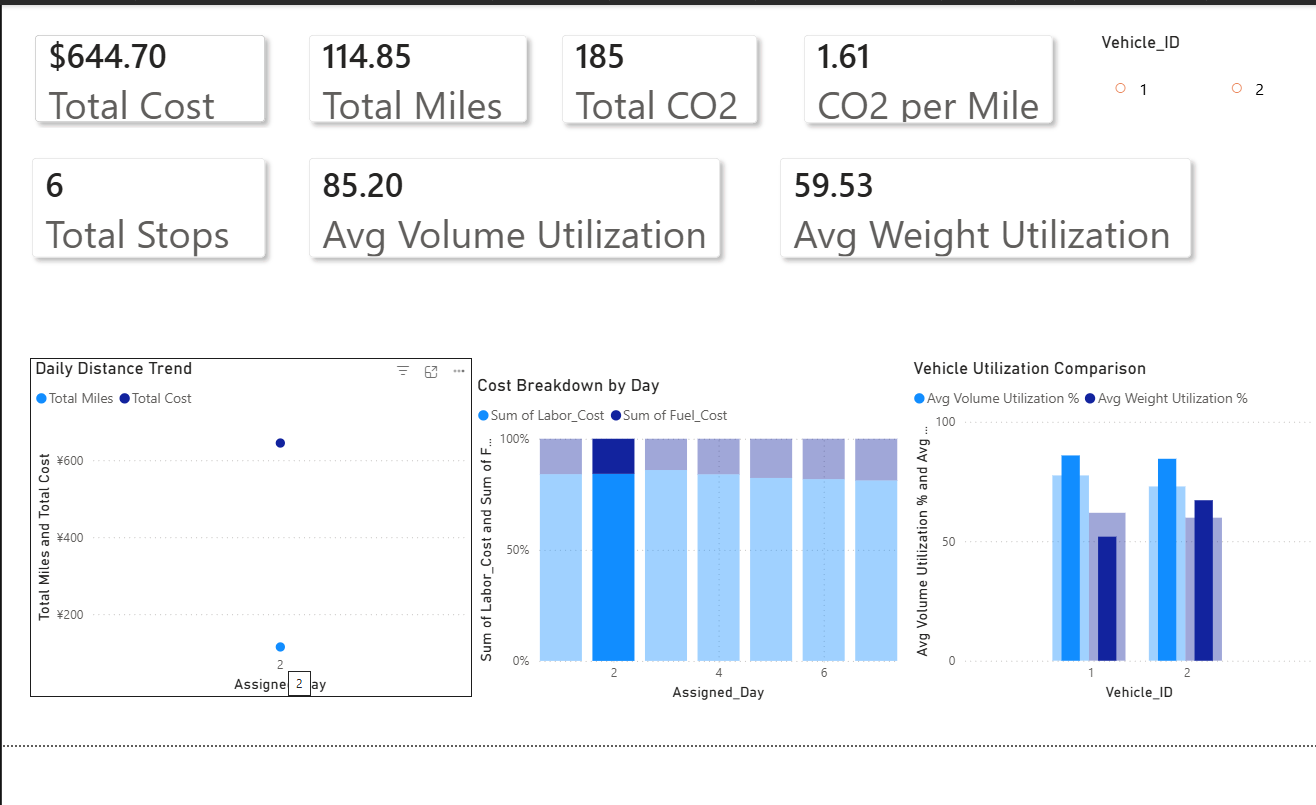

The dashboard page shown, as its layout file describes it:
{"tool":"powerbi","page":{"name":"Manager Overview","canvas":[1280,720],"ordinal":0},"visuals":[{"type":"cardVisual","fields":{"Data":["Input_Config.Avg Volume Utilization %"]},"box":[269,119.8,458.7,155.7],"z":0},{"type":"cardVisual","fields":{"Data":["Input_Config.Avg Weight Utilization %"]},"box":[727.7,119.8,458.1,155.7],"z":1},{"type":"cardVisual","fields":{"Data":["Input_Config.Total CO2"]},"box":[515.8,0,248.3,144],"z":2},{"type":"cardVisual","fields":{"Data":["Input_Config.Total Cost"]},"box":[3.3,0,282,144],"z":3},{"type":"cardVisual","fields":{"Data":["Input_Config.Total Miles"]},"box":[269,0,270.3,144],"z":4},{"type":"cardVisual","fields":{"Data":["Input_Config.Total Stops"]},"box":[0,119.8,285.3,155.7],"z":5},{"type":"lineChart","title":"Daily Distance Trend","fields":{"Category":["Final_Schedule_Model.Assigned_Day"],"Y":["Input_Config.Total Miles","Input_Config.Total Cost"]},"box":[27,343.4,430,329.9],"z":6},{"type":"advancedSlicerVisual","fields":{"Values":["Final_Schedule_Model.Vehicle_ID"]},"box":[1063.6,26.3,216.4,90.1],"z":7},{"type":"hundredPercentStackedColumnChart","title":"Cost Breakdown by Day","fields":{"Category":["Final_Schedule_Model.Assigned_Day"],"Y":["Sum(Final_Schedule_Model.Labor_Cost)","Sum(Final_Schedule_Model.Fuel_Cost)"]},"box":[456.9,359.7,418.6,321.4],"z":8},{"type":"clusteredColumnChart","title":"Vehicle Utilization Comparison","fields":{"Category":["Final_Schedule_Model.Vehicle_ID"],"Y":["Input_Config.Avg Volume Utilization %","Input_Config.Avg Weight Utilization %"]},"box":[881.2,343.4,398.8,337.7],"z":9},{"type":"cardVisual","fields":{"Data":["Input_Config.CO2 per Mile"]},"box":[750.7,0,300.8,144],"z":10}]}

Visuals, with their boxes on the page's 1280x720 design canvas (x1, y1, x2, y2). These are canvas units, not pixel positions in the 1316x805 screenshot, which may show the page scaled, cropped or inside an application window:
cardVisual - Input_Config.Avg Volume Utilization %: 269:120:728:276
cardVisual - Input_Config.Avg Weight Utilization %: 728:120:1186:276
cardVisual - Input_Config.Total CO2: 516:0:764:144
cardVisual - Input_Config.Total Cost: 3:0:285:144
cardVisual - Input_Config.Total Miles: 269:0:539:144
cardVisual - Input_Config.Total Stops: 0:120:285:276
"Daily Distance Trend" lineChart: 27:343:457:673
advancedSlicerVisual - Final_Schedule_Model.Vehicle_ID: 1064:26:1280:116
"Cost Breakdown by Day" hundredPercentStackedColumnChart: 457:360:876:681
"Vehicle Utilization Comparison" clusteredColumnChart: 881:343:1280:681
cardVisual - Input_Config.CO2 per Mile: 751:0:1052:144
